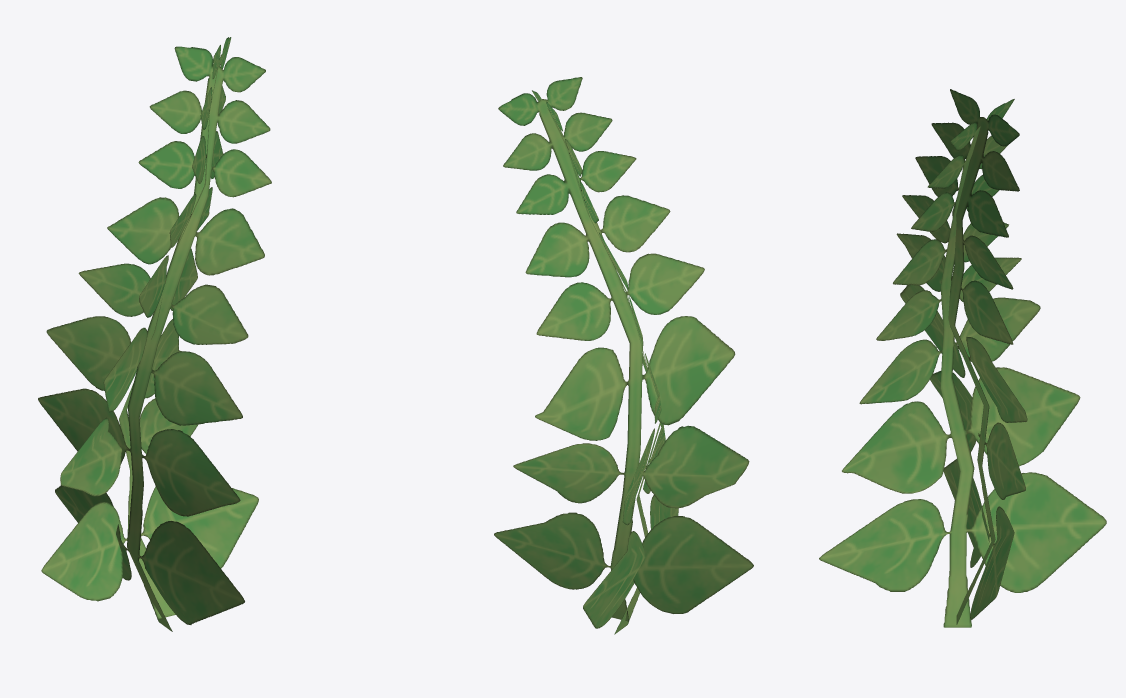
File: LeafSetB_14.fbx
The picture shows the model from 3 angles, left to right: view 1: azimuth 30°, elevation 25°; view 2: azimuth 150°, elevation 25°; view 3: azimuth 270°, elevation 25°; orthographic projection. The views are drawn at different scales.
Parts seen in each view (by area): view 1: LeafSetB_14; view 2: LeafSetB_14; view 3: LeafSetB_14.
Boxes of the visible parts, x1,y1,x2,y2 form: LeafSetB_14: (38, 37, 271, 631); LeafSetB_14: (494, 77, 753, 634); LeafSetB_14: (819, 89, 1106, 627).
Bounding box in the file's own units: 0.7151 × 1.34 × 0.6139.
